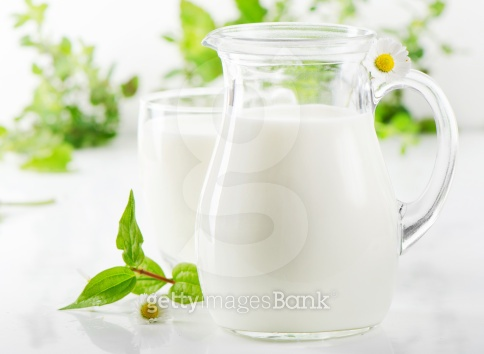glass of milk: (189, 16, 424, 339)
